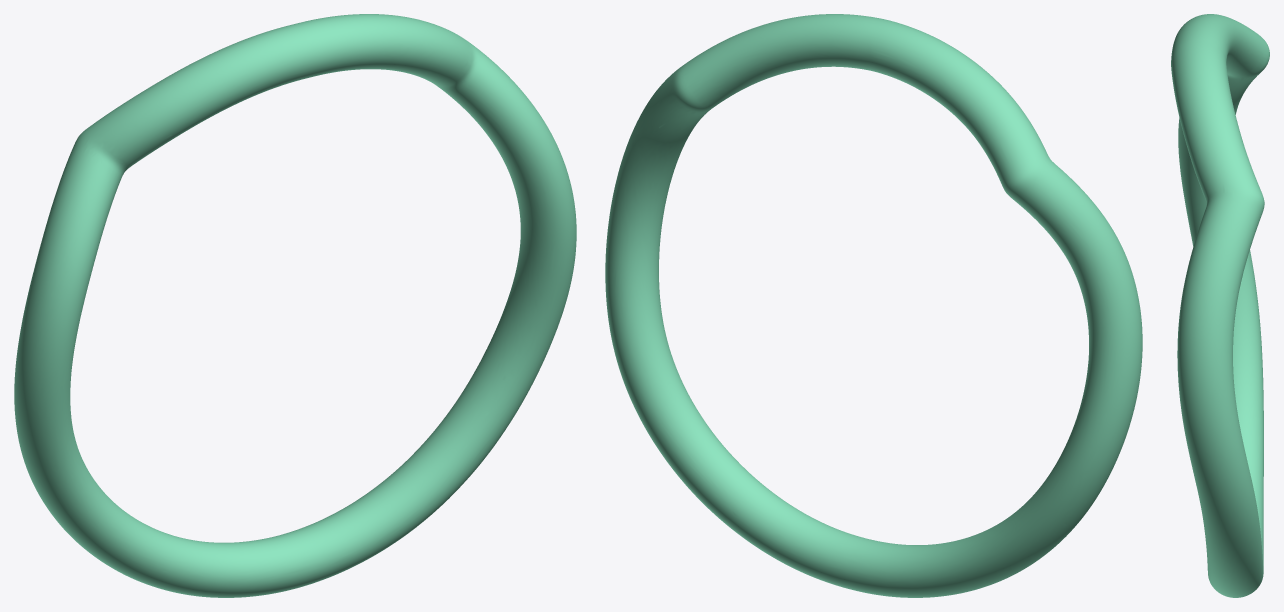
3 views of the same model, side by side, from view 1: azimuth 30°, elevation 25°; view 2: azimuth 150°, elevation 25°; view 3: azimuth 270°, elevation 25° (orthographic). The views are drawn at different scales.
Parts seen in each view (by area): view 1: Metal03; view 2: Metal03; view 3: Metal03.
Part boxes in pixels (bbox=[...]): Metal03: bbox=[14, 14, 576, 597]; Metal03: bbox=[605, 14, 1142, 597]; Metal03: bbox=[1171, 14, 1269, 597].
Size of the model in its own units: 20.89 by 20.88 by 3.54.
